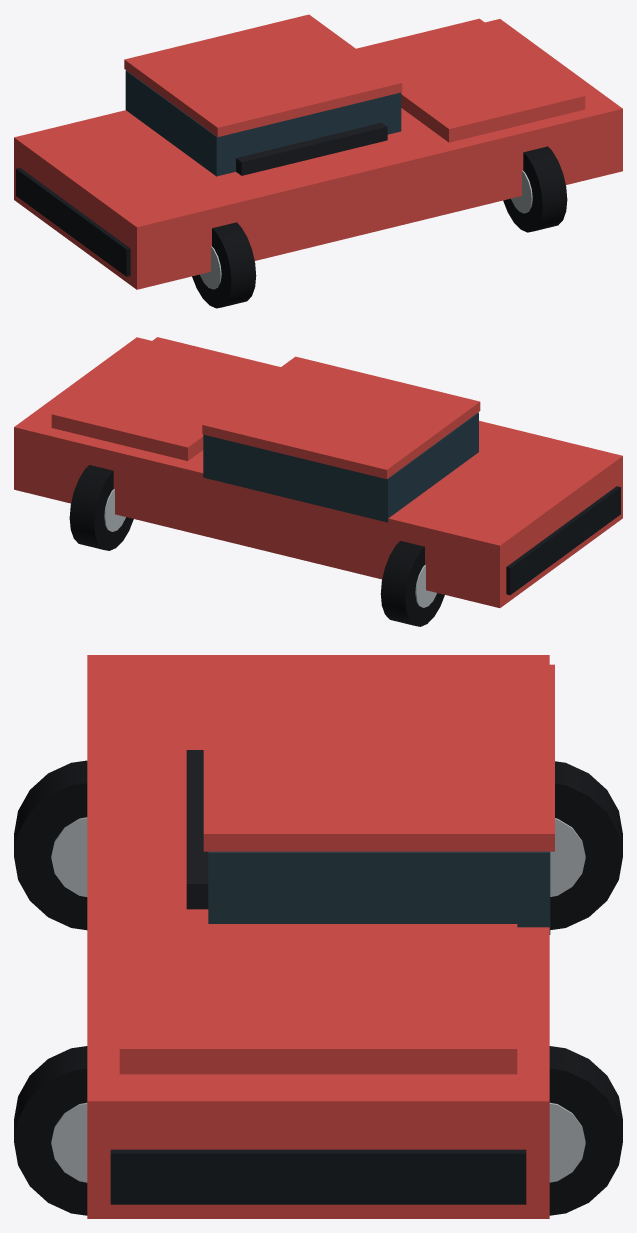
File: lambo_gallardo.glb
The picture shows the model from 3 angles, top to bottom: view 1: azimuth 30°, elevation 25°; view 2: azimuth 150°, elevation 25°; view 3: azimuth 270°, elevation 25°; orthographic projection. The views are drawn at different scales.
Parts seen in each view (by area): view 1: body, roof, hood, cabin, front_right_wheel, rear_right_wheel, rear_bumper, interior; view 2: body, roof, hood, cabin, front_left_wheel, rear_left_wheel, rear_bumper; view 3: body, roof, hood, cabin, front_bumper, front_left_wheel, front_right_wheel, rear_right_wheel, rear_left_wheel, interior.
Part boxes in pixels (<box>): body: <box>14,19,622,289</box>; roof: <box>124,14,402,136</box>; hood: <box>356,18,585,142</box>; cabin: <box>125,70,401,176</box>; front_right_wheel: <box>503,146,567,232</box>; rear_right_wheel: <box>192,222,256,308</box>; rear_bumper: <box>16,168,130,276</box>; interior: <box>236,122,387,175</box>; body: <box>14,337,622,607</box>; roof: <box>202,356,480,479</box>; hood: <box>51,337,280,460</box>; cabin: <box>203,412,478,522</box>; front_left_wheel: <box>69,465,133,550</box>; rear_left_wheel: <box>380,541,444,626</box>; rear_bumper: <box>506,486,620,595</box>; body: <box>87,655,549,1218</box>; roof: <box>203,664,554,851</box>; hood: <box>119,924,517,1074</box>; cabin: <box>208,851,550,934</box>; front_bumper: <box>110,1149,526,1204</box>; front_left_wheel: <box>549,1046,622,1215</box>; front_right_wheel: <box>14,1046,87,1215</box>; rear_right_wheel: <box>14,760,87,930</box>; rear_left_wheel: <box>550,761,622,929</box>; interior: <box>186,750,208,909</box>.
Bounding box in the file's own units: 4.41 × 1.26 × 2.5.
